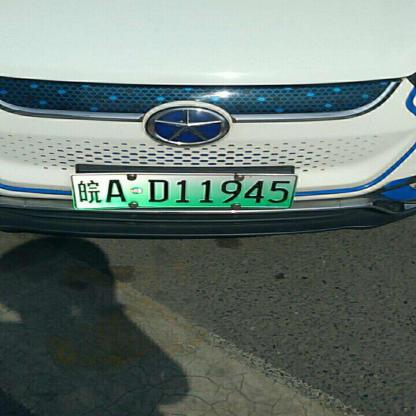lp: (71, 174, 295, 206)
